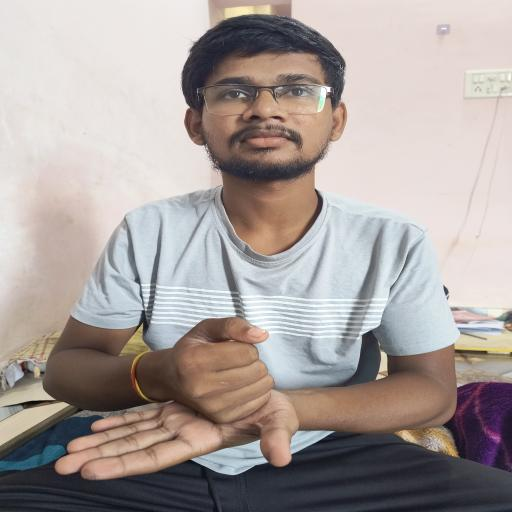Next: (33, 298, 384, 485)
